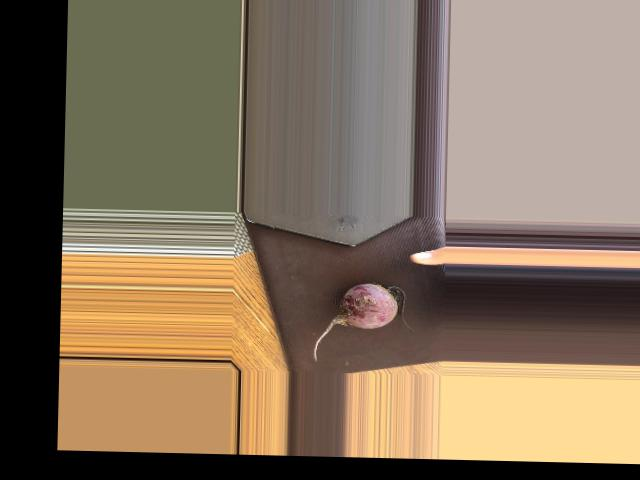beet: (312, 282, 412, 362)
